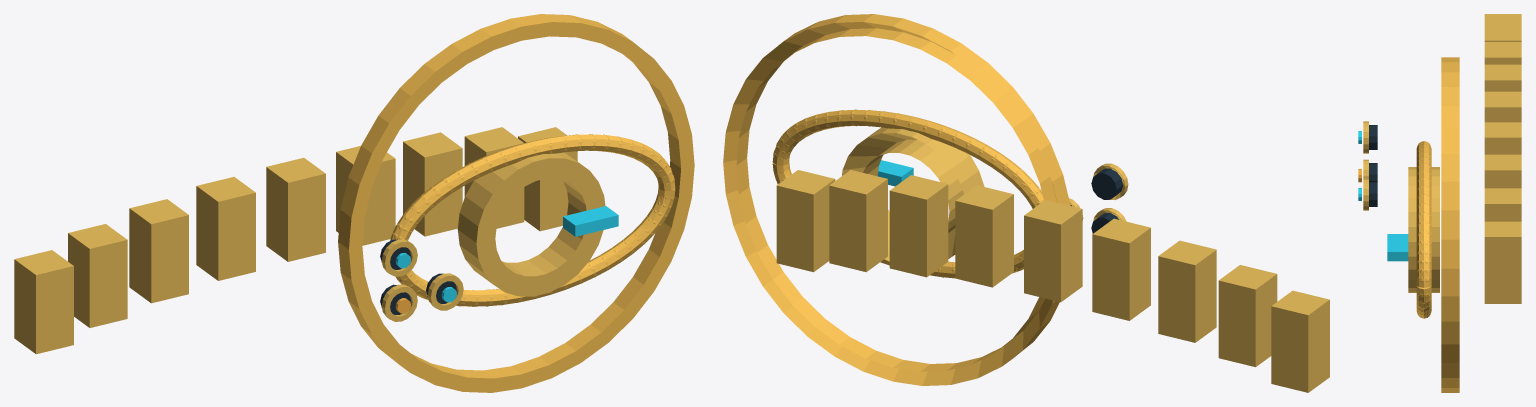
The model's file is 13_L83_ProgrammableSolarIlluminationArc.fbx.
3 views of the same model, side by side, from view 1: azimuth 30°, elevation 25°; view 2: azimuth 150°, elevation 25°; view 3: azimuth 270°, elevation 25° (orthographic). The views are drawn at different scales.
Parts seen in each view (by area): view 1: ProgrammableSolarIlluminationArc, ProgrammableSolarIlluminationArc_Part_0123, ProgrammableSolarIlluminationArc_Part_0124; view 2: ProgrammableSolarIlluminationArc, ProgrammableSolarIlluminationArc_Part_0123, ProgrammableSolarIlluminationArc_Part_0124; view 3: ProgrammableSolarIlluminationArc, ProgrammableSolarIlluminationArc_Part_0123, ProgrammableSolarIlluminationArc_Part_0124.
Part boxes in pixels (x1=…): ProgrammableSolarIlluminationArc: x1=14, y1=14, x2=694, y2=392; ProgrammableSolarIlluminationArc_Part_0123: x1=457, y1=152, x2=605, y2=296; ProgrammableSolarIlluminationArc_Part_0124: x1=563, y1=206, x2=618, y2=236; ProgrammableSolarIlluminationArc: x1=723, y1=14, x2=1329, y2=392; ProgrammableSolarIlluminationArc_Part_0123: x1=842, y1=127, x2=984, y2=261; ProgrammableSolarIlluminationArc_Part_0124: x1=877, y1=160, x2=913, y2=186; ProgrammableSolarIlluminationArc: x1=1358, y1=14, x2=1521, y2=392; ProgrammableSolarIlluminationArc_Part_0123: x1=1408, y1=167, x2=1439, y2=292; ProgrammableSolarIlluminationArc_Part_0124: x1=1387, y1=234, x2=1408, y2=261.
Bounding box in the file's own units: 234 × 128 × 61.95.
